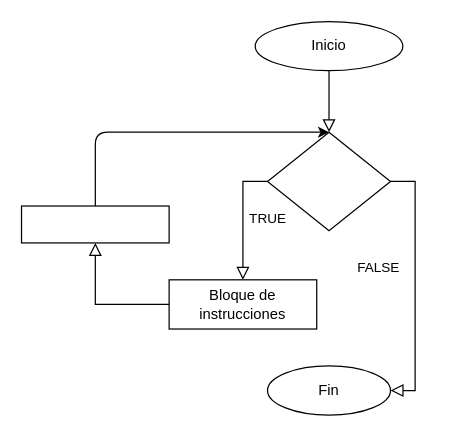
Image size: 449x437. Some labels were removed from this diagram. Here are the shapes that lost their labels. From the top down, the box of each, then its label:
(266, 131, 391, 231): <condición>
(20, 205, 169, 243): Incremento del contador
